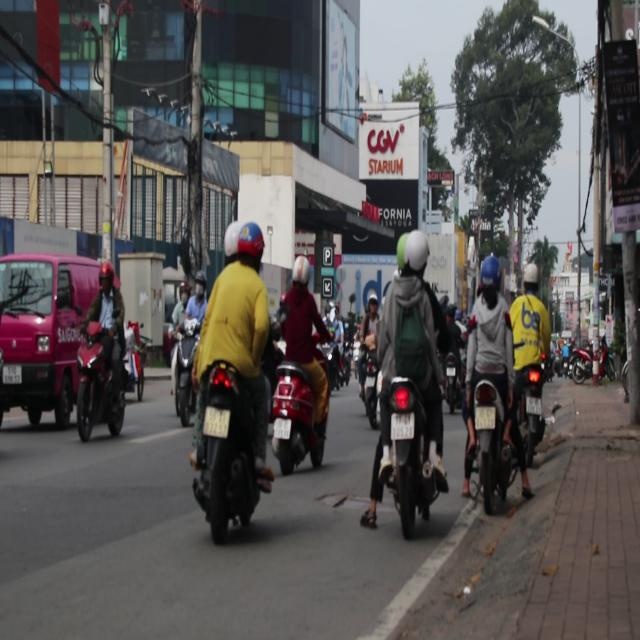motorbike: (186, 362, 274, 542), (372, 371, 442, 538), (464, 375, 514, 522), (269, 364, 326, 476), (75, 331, 130, 443), (172, 325, 202, 426), (518, 358, 544, 460), (569, 349, 594, 384)
truck: (2, 251, 112, 434)
